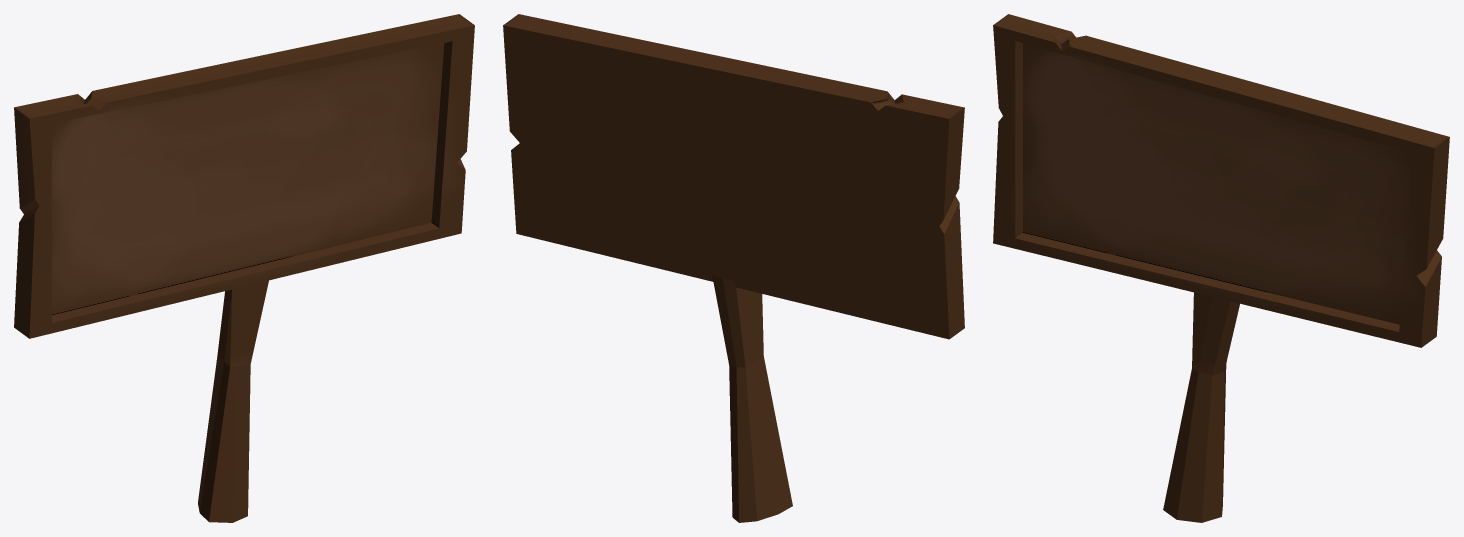
File: Sign-1.fbx
3 renders of one model, left to right at view 1: azimuth 30°, elevation 25°; view 2: azimuth 150°, elevation 25°; view 3: azimuth 330°, elevation 25°, orthographic.
Parts seen in each view (by area): view 1: Sign; view 2: Sign; view 3: Sign.
Part boxes in pixels (box(x1,y1,x2,y2)): Sign: box(14, 14, 474, 522); Sign: box(503, 14, 964, 522); Sign: box(993, 14, 1449, 522).
Bounding box in the file's own units: 1366 × 1311 × 177.
1 material, 1 textured.
